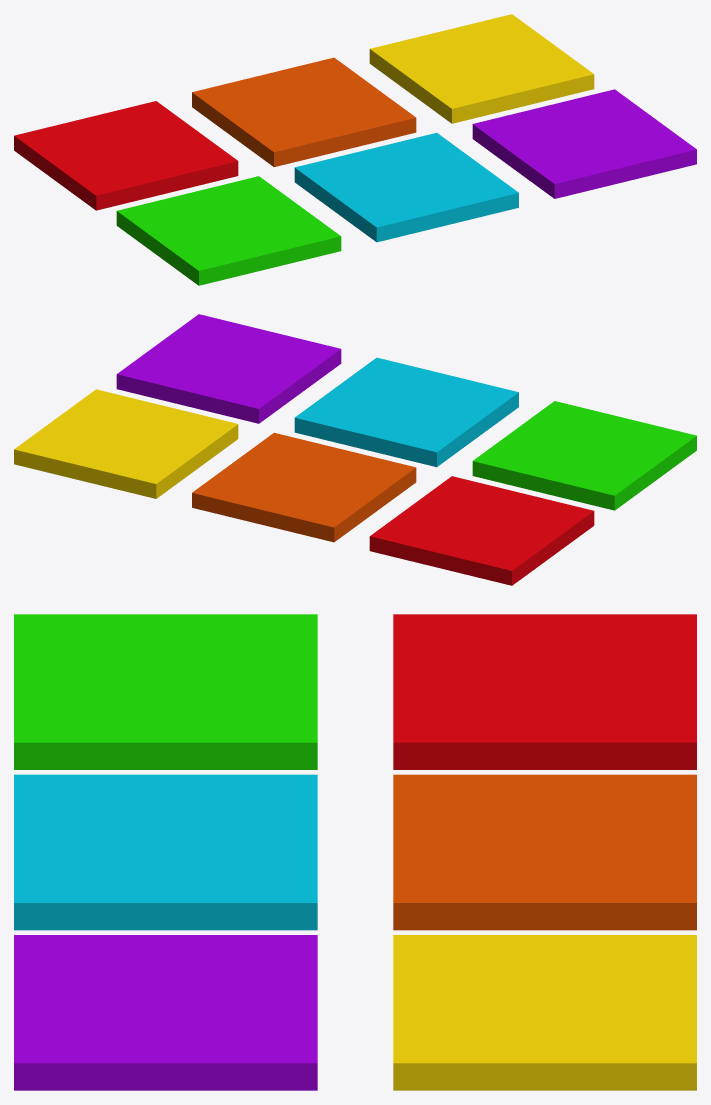
The model's file is SimonSaysBoard.glb.
The picture shows the model from 3 angles, top to bottom: view 1: azimuth 30°, elevation 25°; view 2: azimuth 150°, elevation 25°; view 3: azimuth 270°, elevation 25°; orthographic projection. The views are drawn at different scales.
Parts seen in each view (by area): view 1: YELLOW, GREEN, ORANGE, BLUE, RED, PURPLE; view 2: RED, PURPLE, ORANGE, BLUE, YELLOW, GREEN; view 3: ORANGE, BLUE, RED, YELLOW, GREEN, PURPLE.
Part boxes in pixels (x1=…): YELLOW: x1=369, y1=14, x2=594, y2=123; GREEN: x1=116, y1=176, x2=341, y2=285; ORANGE: x1=192, y1=57, x2=416, y2=167; BLUE: x1=294, y1=132, x2=518, y2=242; RED: x1=14, y1=101, x2=238, y2=210; PURPLE: x1=472, y1=89, x2=696, y2=198; RED: x1=369, y1=476, x2=594, y2=585; PURPLE: x1=116, y1=314, x2=341, y2=423; ORANGE: x1=192, y1=432, x2=416, y2=542; BLUE: x1=294, y1=357, x2=518, y2=467; YELLOW: x1=14, y1=389, x2=238, y2=498; GREEN: x1=472, y1=401, x2=696, y2=510; ORANGE: x1=393, y1=774, x2=696, y2=930; BLUE: x1=14, y1=774, x2=317, y2=930; RED: x1=393, y1=614, x2=696, y2=769; YELLOW: x1=393, y1=935, x2=696, y2=1090; GREEN: x1=14, y1=614, x2=317, y2=769; PURPLE: x1=14, y1=935, x2=317, y2=1090.
Size of the model in its own units: 14 by 0.4 by 9.
